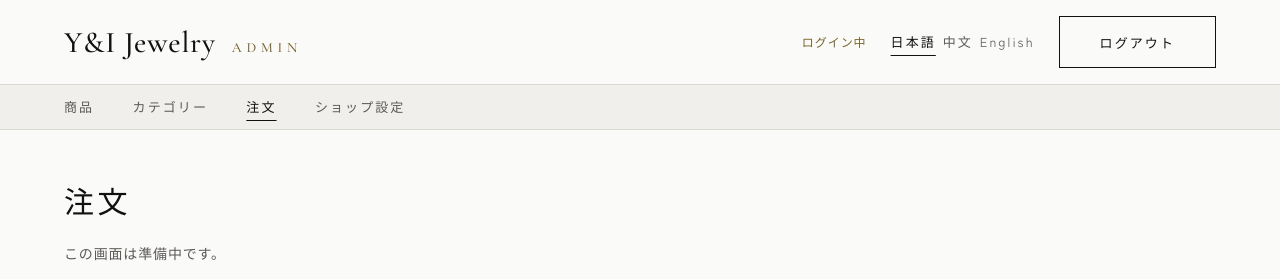
Test: switching the locale in the admin stays on the same admin page
Click the link "English". click: (1007, 42)
box: top-left (980, 32), bottom-right (1035, 51)
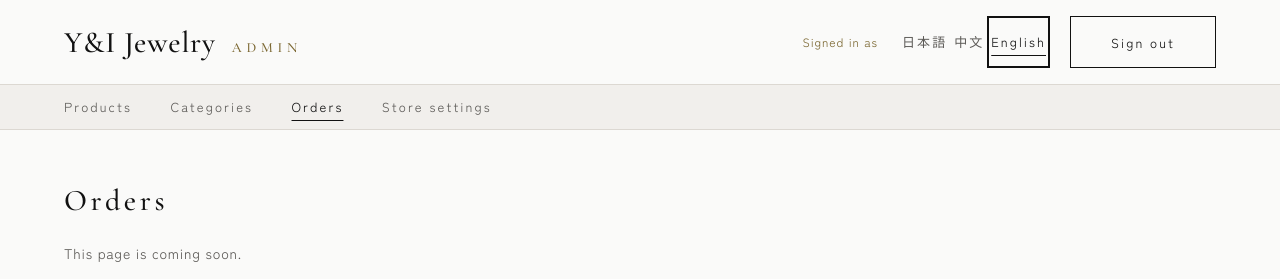
Check: the heading "Orders" is shown, box top-left (64, 182), bottom-right (168, 219)
Check: the navigation bar named "Admin menu" is shown, box top-left (0, 85), bottom-right (1279, 130)
